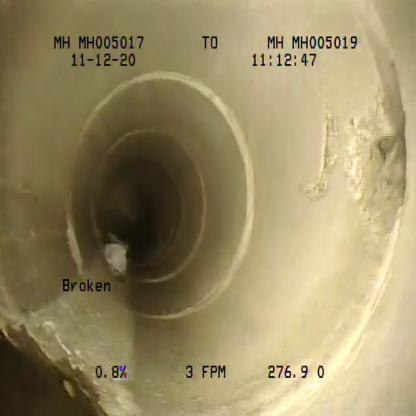Hole: (343, 95, 412, 246)
